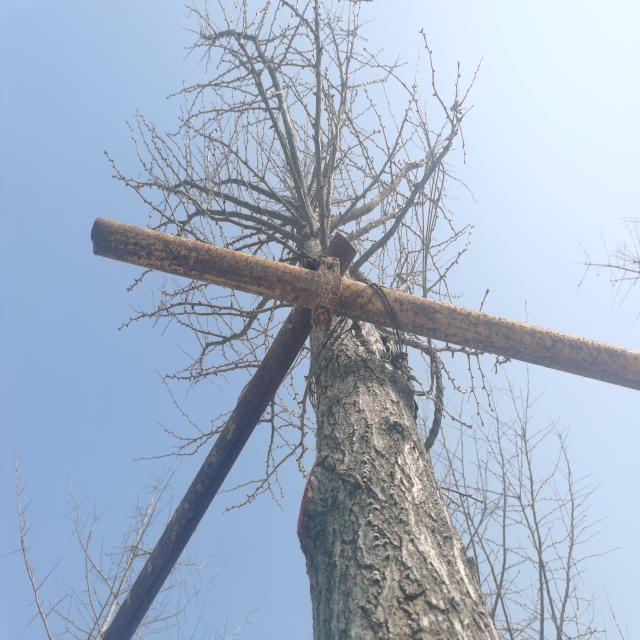bolt nut: (313, 306, 330, 328)
